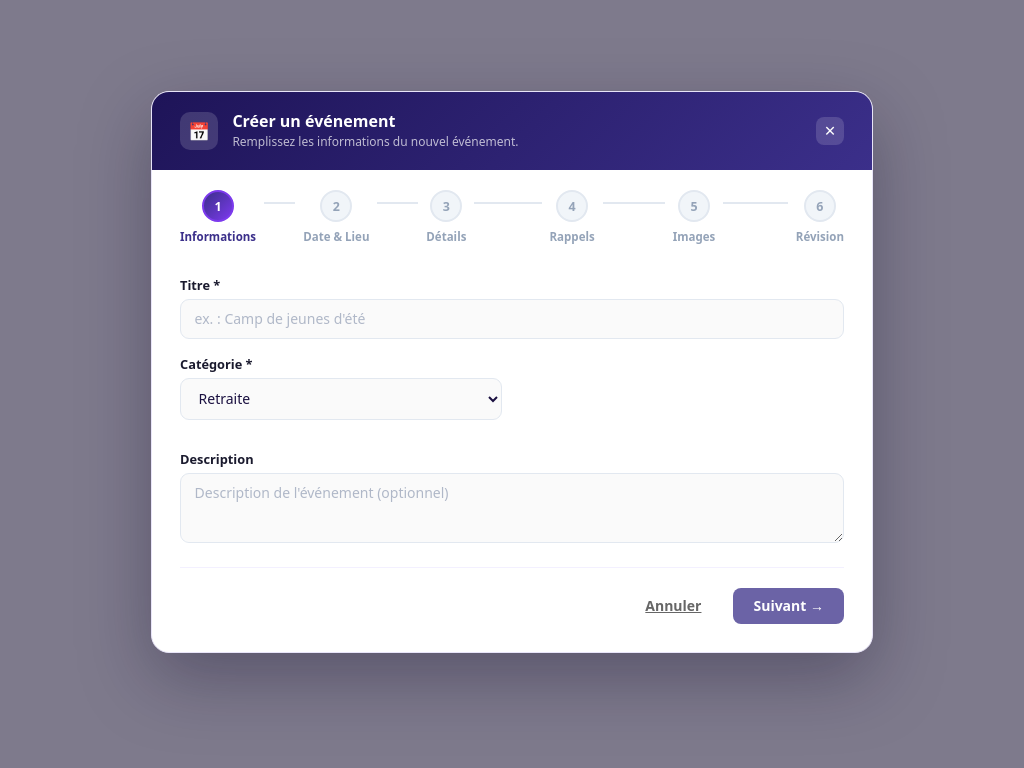
Test: EvenementsForm — navigation entre étapes › revient à l'étape précédente sans perdre la saisie
Type "Retraite d'automne" into the field with placeholder "ex. : Camp de jeunes d'été". click: (512, 319)
box: left=180, top=299, right=844, bottom=339
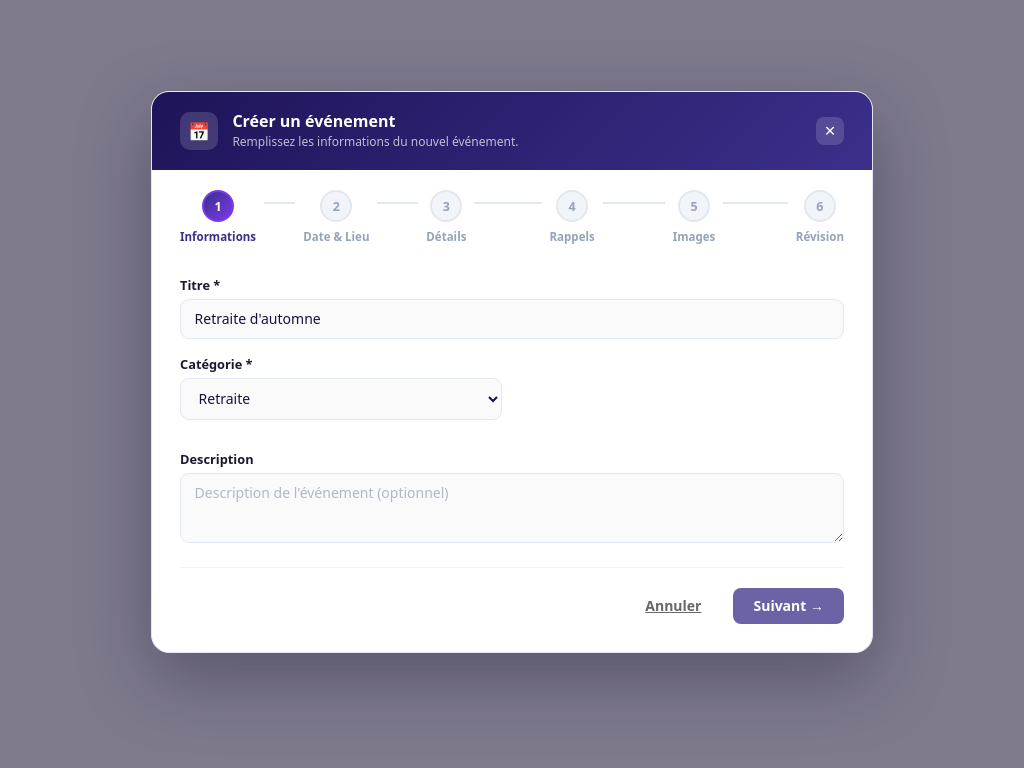
Submit the form, box left=152, top=252, right=872, bottom=652
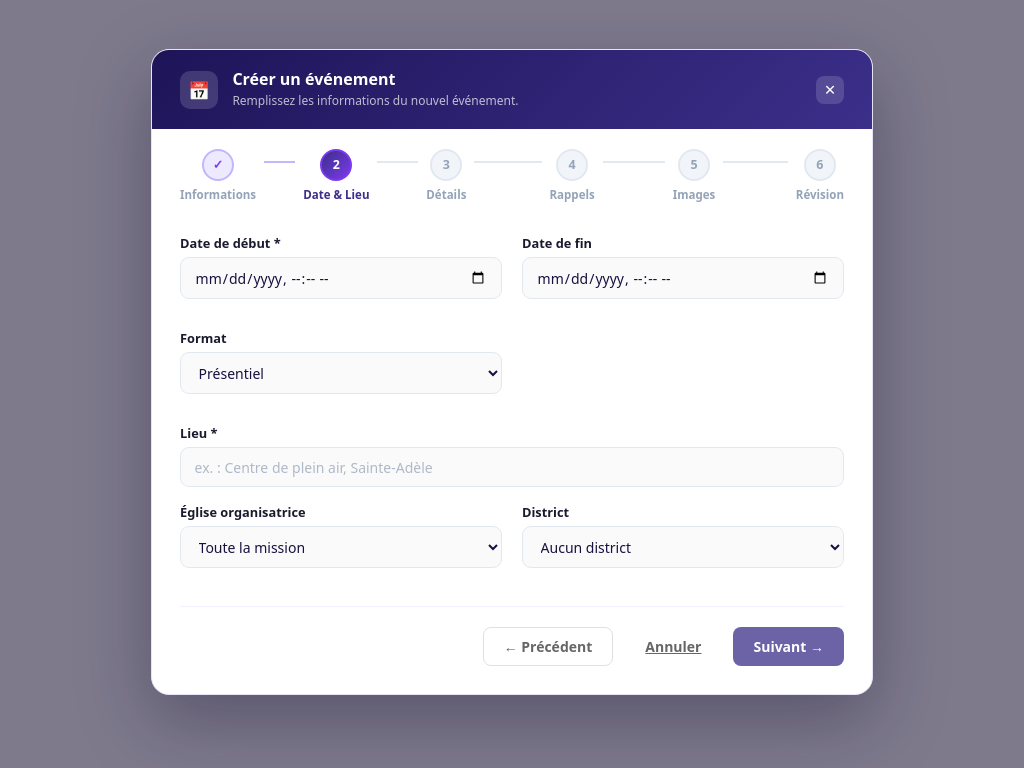
Click the button "← Précédent". click: (548, 646)
box: left=483, top=627, right=613, bottom=666
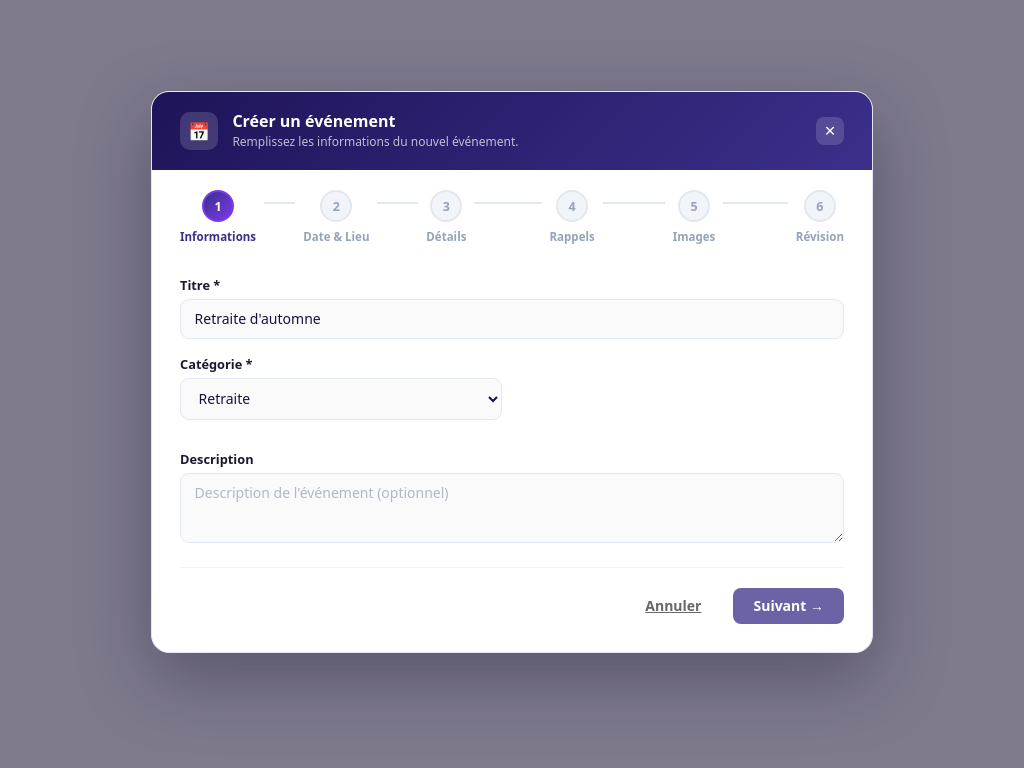
Result: the field with placeholder "ex. : Camp de jeunes d'été" holds "Retraite d'automne" at left=180, top=299, right=844, bottom=339
